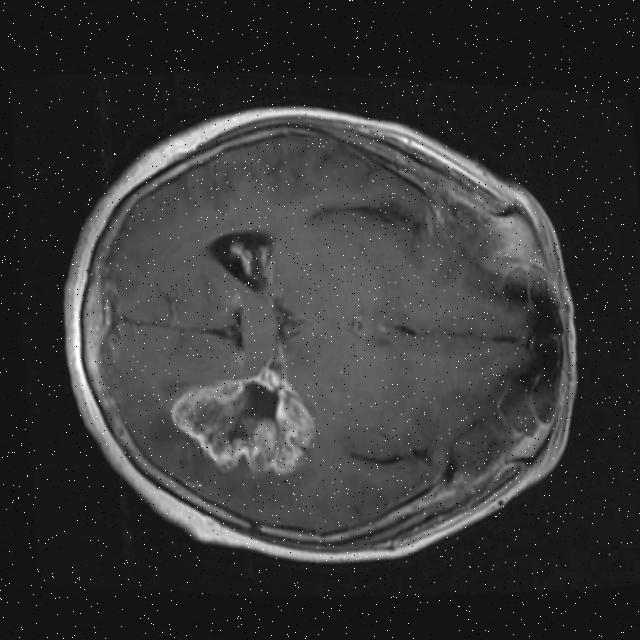Glioma: (165, 351, 318, 480)
